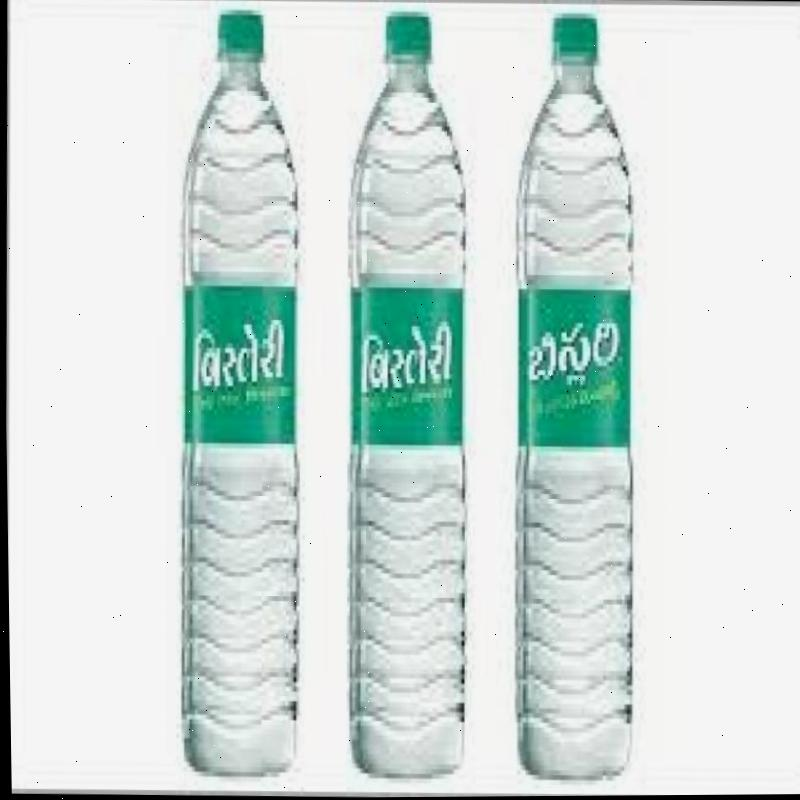botella: (502, 9, 644, 780), (334, 10, 476, 775), (167, 6, 307, 780)
